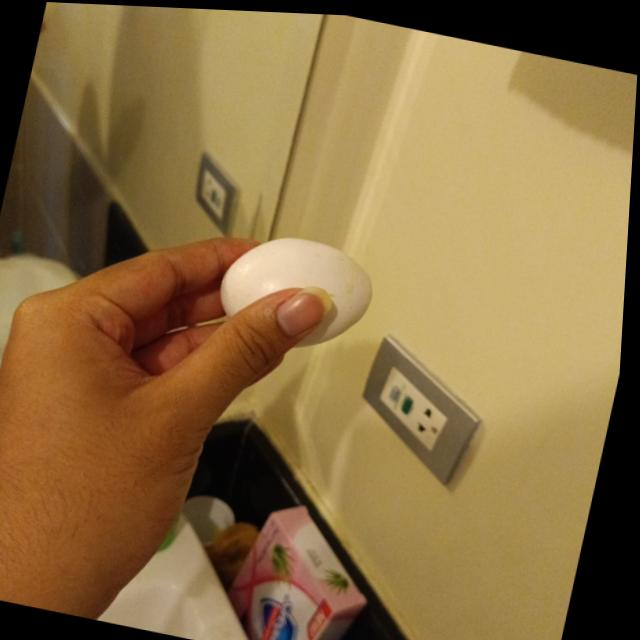egg: (218, 223, 384, 351)
